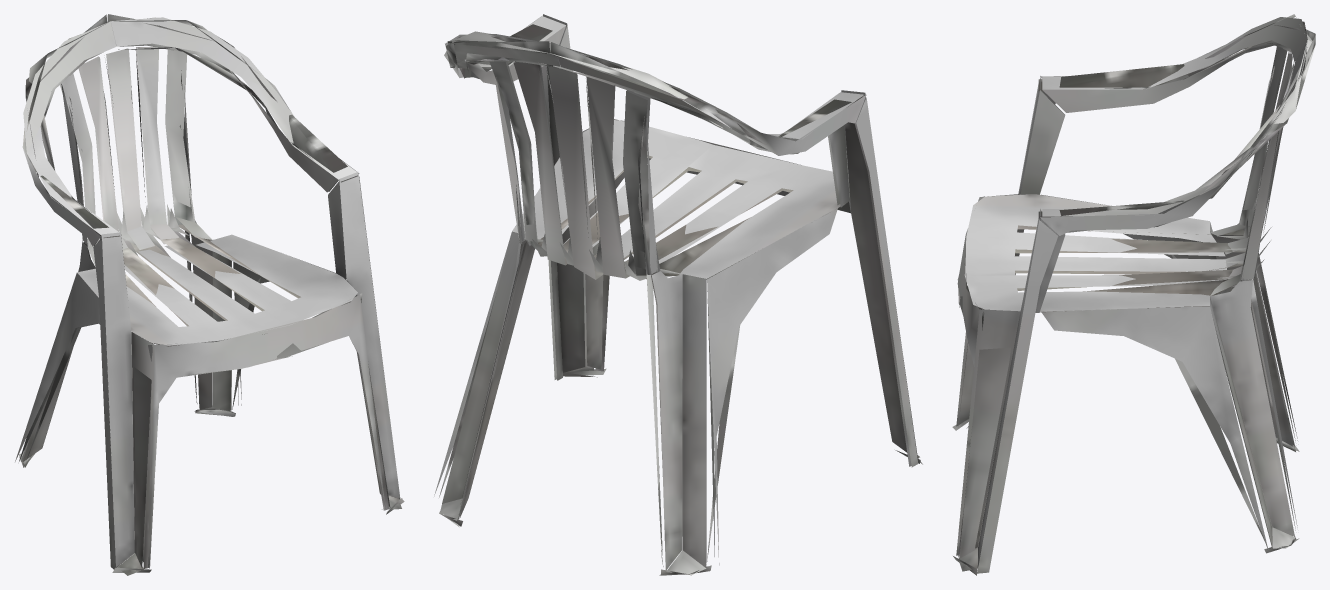
File: detail_monoChair.glb
3 views of the same model, side by side, from view 1: azimuth 30°, elevation 25°; view 2: azimuth 150°, elevation 25°; view 3: azimuth 270°, elevation 25° (orthographic). The views are drawn at different scales.
Visible parts, largest first — view 1: detail_monoChair_LOD0; view 2: detail_monoChair_LOD0; view 3: detail_monoChair_LOD0.
Boxes of the visible parts, x1,y1,x2,y2 form: detail_monoChair_LOD0: [15, 14, 404, 575]; detail_monoChair_LOD0: [434, 14, 922, 575]; detail_monoChair_LOD0: [952, 14, 1315, 575].
Size of what is drawn, in the model's own units: 0.6602 by 0.8911 by 0.635.
1 material, 1 textured.
